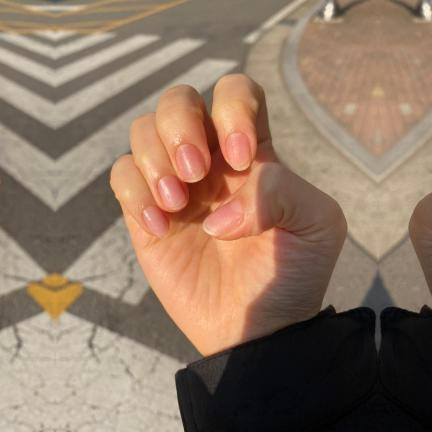Nail: (203, 198, 244, 236), (174, 144, 205, 182), (155, 175, 186, 211), (140, 205, 170, 239), (225, 133, 252, 170)
